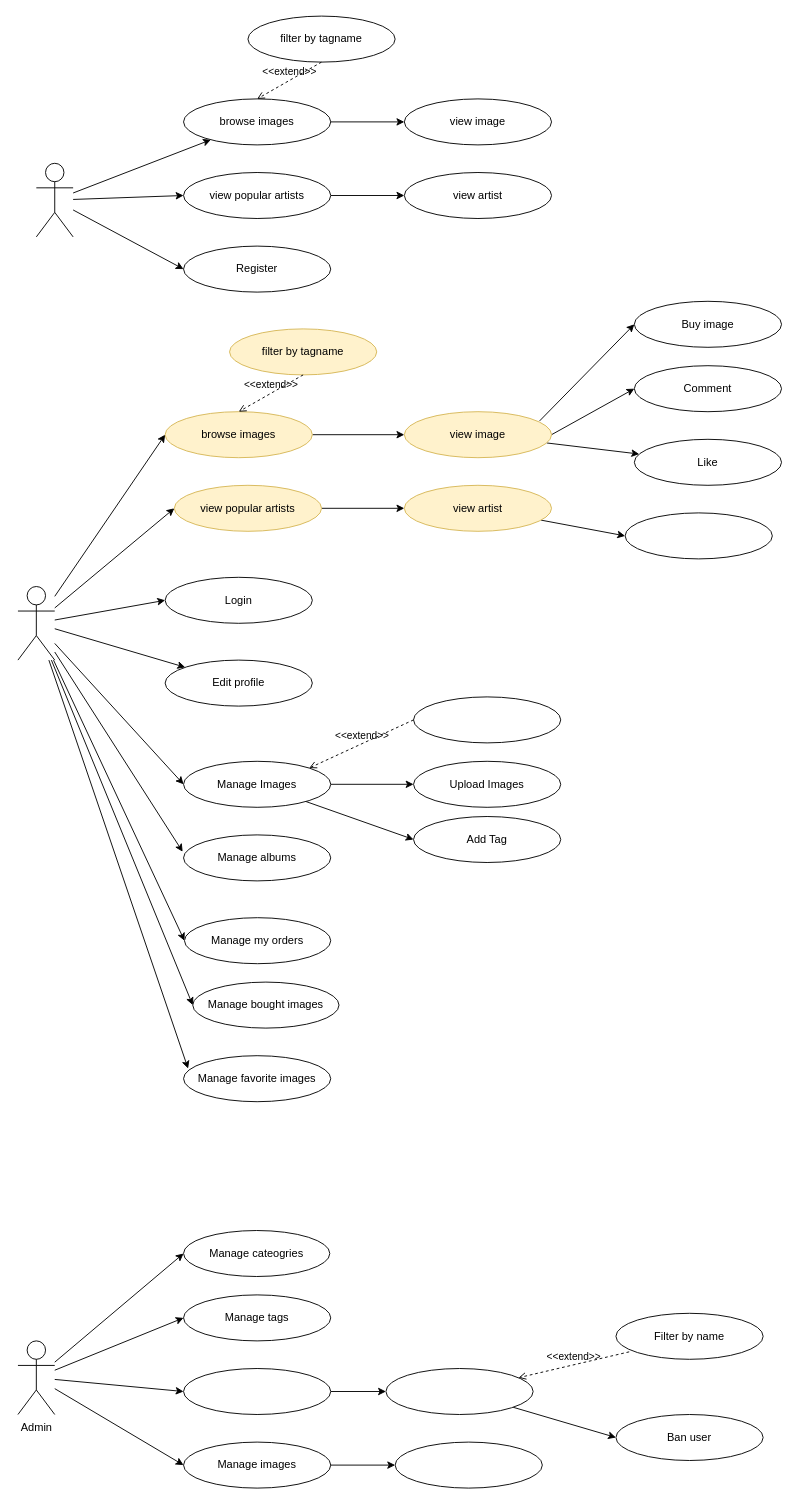
The diagram is 798 pixels wide and 1504 high, and some of its shapes have lost their labels. Here are the shapes that lost their labels. From the top down, the centre of each, then its label:
[54,199]: Visitor
[698,535]: Follow artist
[36,623]: Member
[487,719]: search by name
[257,1391]: Manage users
[459,1391]: View all users
[468,1464]: Disable invalid post
